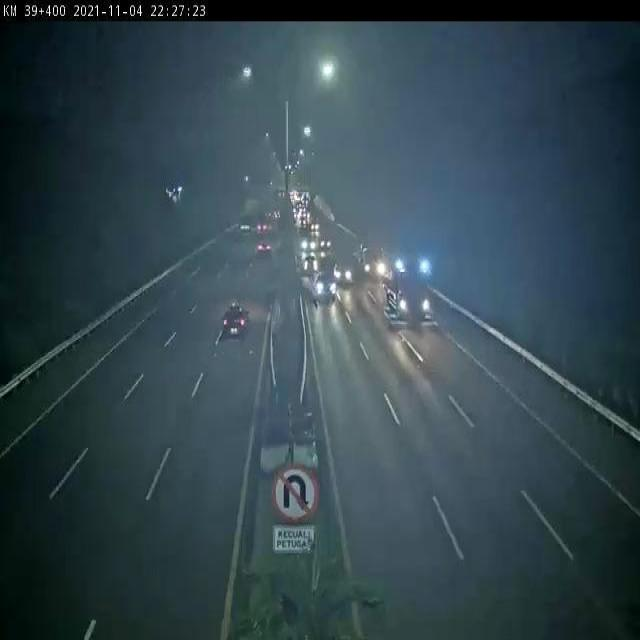ARABA: (221, 306, 251, 338), (314, 269, 337, 303), (334, 260, 353, 283)
KAMYONET: (303, 254, 320, 274)
TIR: (383, 248, 430, 321), (354, 240, 384, 277)
